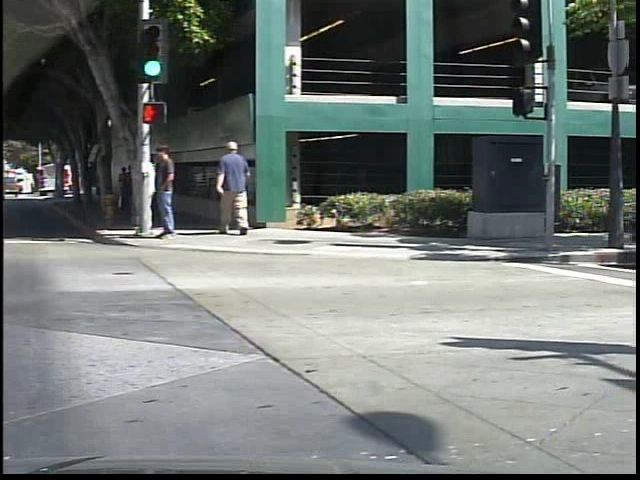person: (215, 137, 269, 236), (151, 140, 190, 246), (141, 146, 167, 231)
